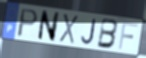B: (96, 17, 120, 50)
F: (117, 21, 139, 51)
J: (80, 18, 97, 46)
N: (36, 10, 61, 44)
P: (16, 7, 40, 38)
X: (58, 13, 79, 46)
